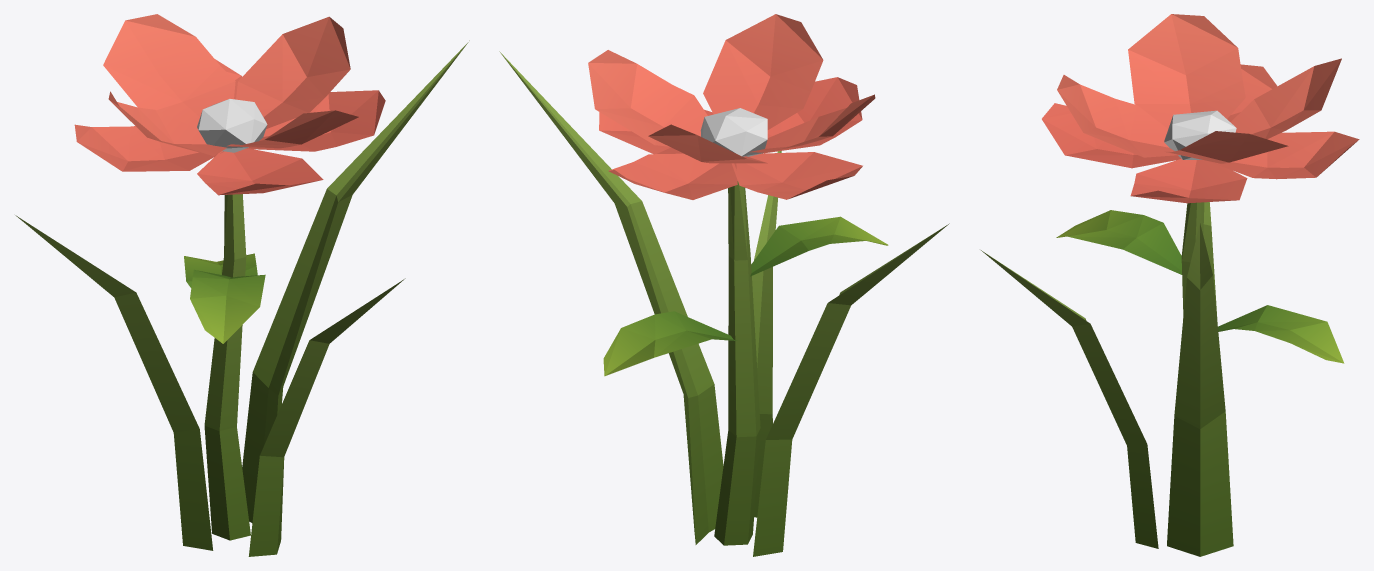
File: Flower_04.fbx
3 renders of one model, left to right at view 1: azimuth 30°, elevation 25°; view 2: azimuth 150°, elevation 25°; view 3: azimuth 270°, elevation 25°, orthographic.
Parts seen in each view (by area): view 1: Flower_04; view 2: Flower_04; view 3: Flower_04.
Part boxes in pixels (x1,y1,x2,y2): Flower_04: [15, 14, 469, 556]; Flower_04: [499, 14, 949, 556]; Flower_04: [981, 14, 1359, 556].
Bounding box in the file's own units: 0.3311 × 0.3269 × 0.2429.
